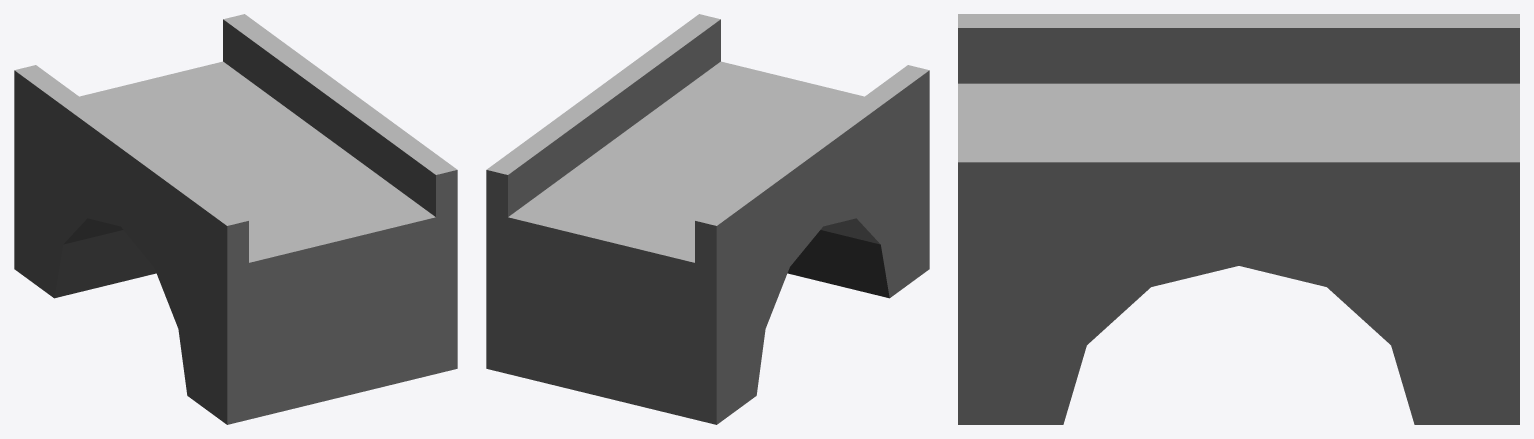
File: StoneBridge.fbx
3 views of the same model, side by side, from view 1: azimuth 30°, elevation 25°; view 2: azimuth 150°, elevation 25°; view 3: azimuth 270°, elevation 25° (orthographic). The views are drawn at different scales.
Parts seen in each view (by area): view 1: Bridge; view 2: Bridge; view 3: Bridge.
Boxes of the visible parts, x1,y1,x2,y2 form: Bridge: (14, 14, 457, 424); Bridge: (486, 14, 929, 424); Bridge: (958, 14, 1519, 424).
Size of the model in its own units: 320 by 200 by 165.
